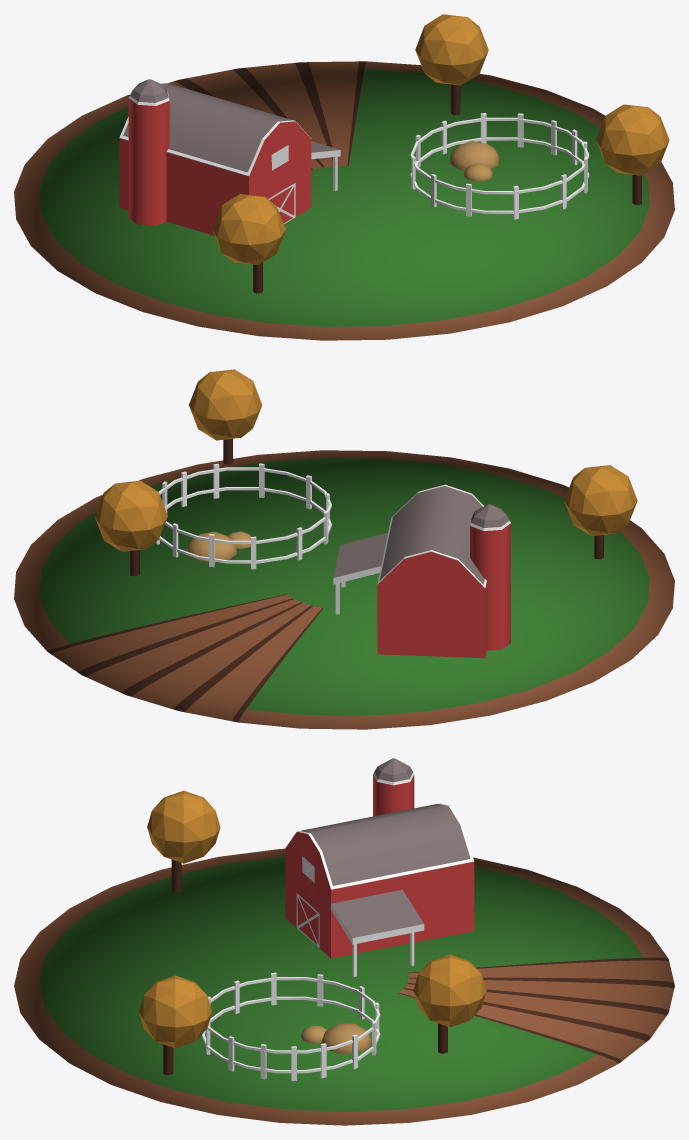
The model's file is 42a02a23-0cfe-43fd-b651-746d2a27a891.glb.
3 views of the same model, one above another, from view 1: azimuth 30°, elevation 25°; view 2: azimuth 150°, elevation 25°; view 3: azimuth 270°, elevation 25° (orthographic).
Parts seen in each view (by area): view 1: Sphere001, Box001; view 2: Sphere001, Box001; view 3: Sphere001, Box001.
Part boxes in pixels (box(x1,y1,x2,y2)): Sphere001: box(14, 61, 674, 340); Box001: box(119, 14, 669, 293); Sphere001: box(14, 450, 674, 729); Box001: box(94, 369, 637, 658); Sphere001: box(14, 848, 674, 1125); Box001: box(139, 758, 486, 1080).
Size of the model in its own units: 220 by 56.33 by 220.
